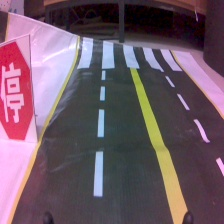stop: (1, 34, 40, 144)
